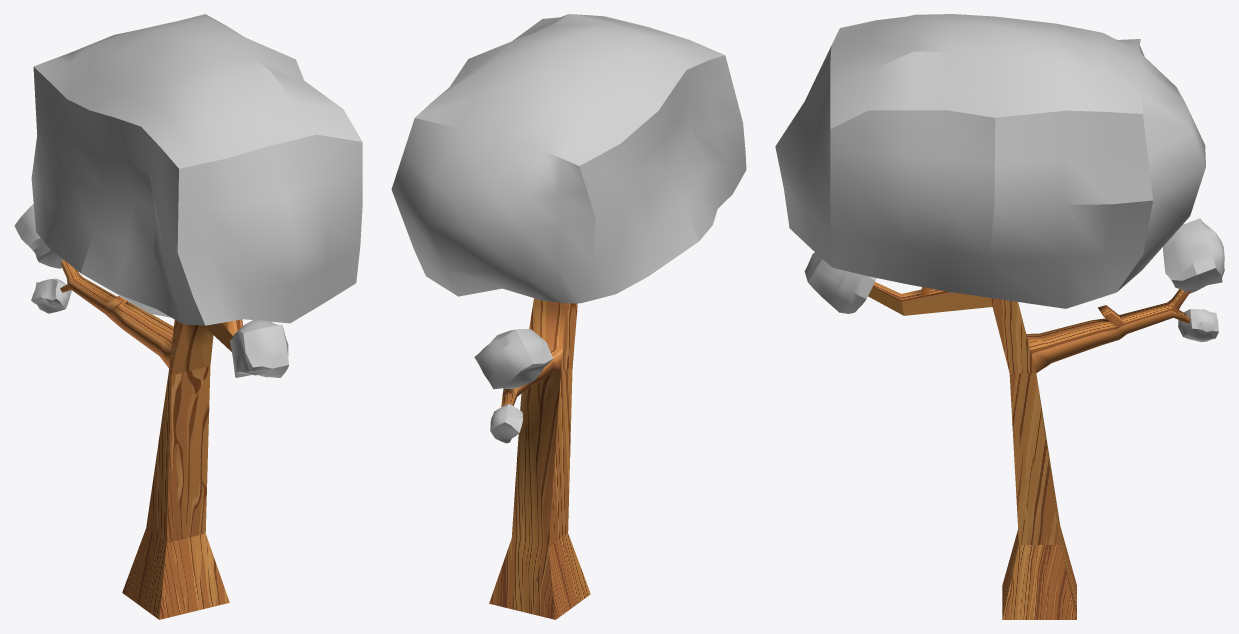
The model's file is arvore.fbx.
3 renders of one model, left to right at view 1: azimuth 30°, elevation 25°; view 2: azimuth 150°, elevation 25°; view 3: azimuth 270°, elevation 25°, orthographic. The views are drawn at different scales.
Visible parts, largest first — view 1: Cube.001; view 2: Cube.001; view 3: Cube.001.
Boxes of the visible parts, box(x1,y1,x2,y2) form: Cube.001: box(14, 14, 362, 619); Cube.001: box(391, 14, 746, 619); Cube.001: box(775, 14, 1224, 619).
Bounding box in the file's own units: 69.65 × 149 × 106.
